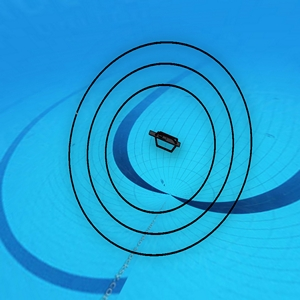circle: (68, 40, 251, 261)
submarine: (145, 128, 181, 151)
